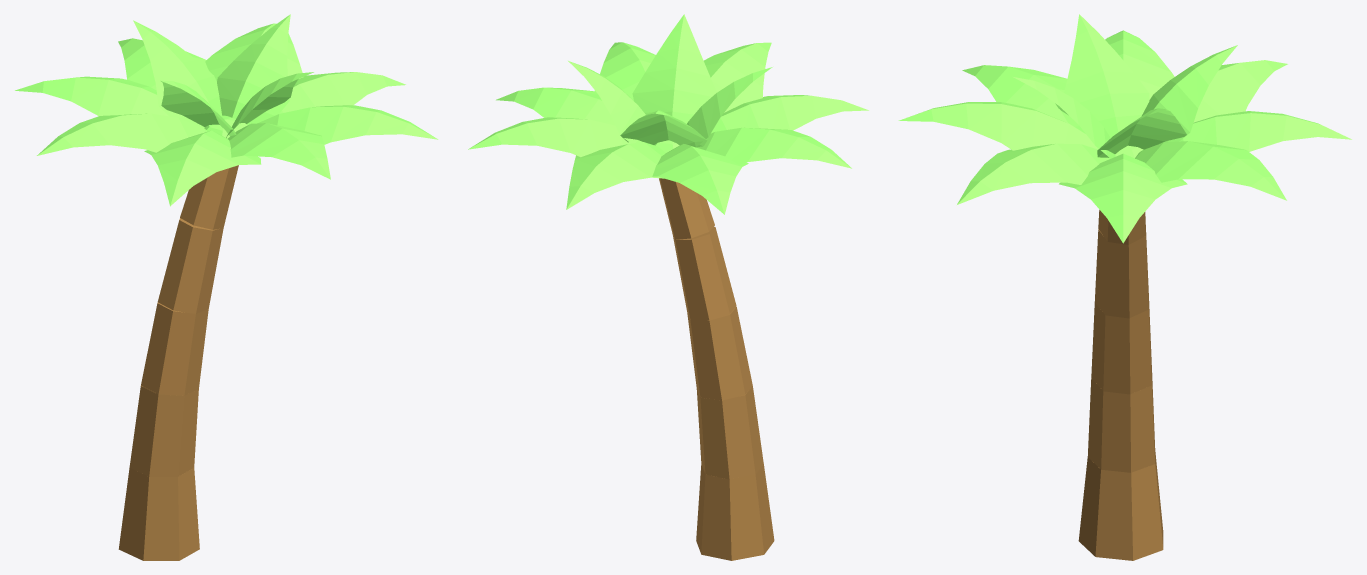
Rendered from palm.glb.
The picture shows the model from 3 angles, left to right: view 1: azimuth 30°, elevation 25°; view 2: azimuth 150°, elevation 25°; view 3: azimuth 270°, elevation 25°; orthographic projection. The views are drawn at different scales.
Visible parts, largest first — view 1: canopy, palm, trunk; view 2: canopy, palm, trunk; view 3: canopy, palm, trunk.
Boxes of the visible parts, x1,y1,x2,y2 form: canopy: (15, 14, 438, 206); palm: (129, 165, 238, 476); trunk: (118, 468, 199, 560); canopy: (468, 14, 868, 214); palm: (659, 178, 763, 479); trunk: (696, 464, 774, 560); canopy: (898, 14, 1351, 243); palm: (1087, 210, 1155, 472); trunk: (1078, 452, 1163, 560).
Bounding box in the file's own units: 1.34 × 1.69 × 1.34.
